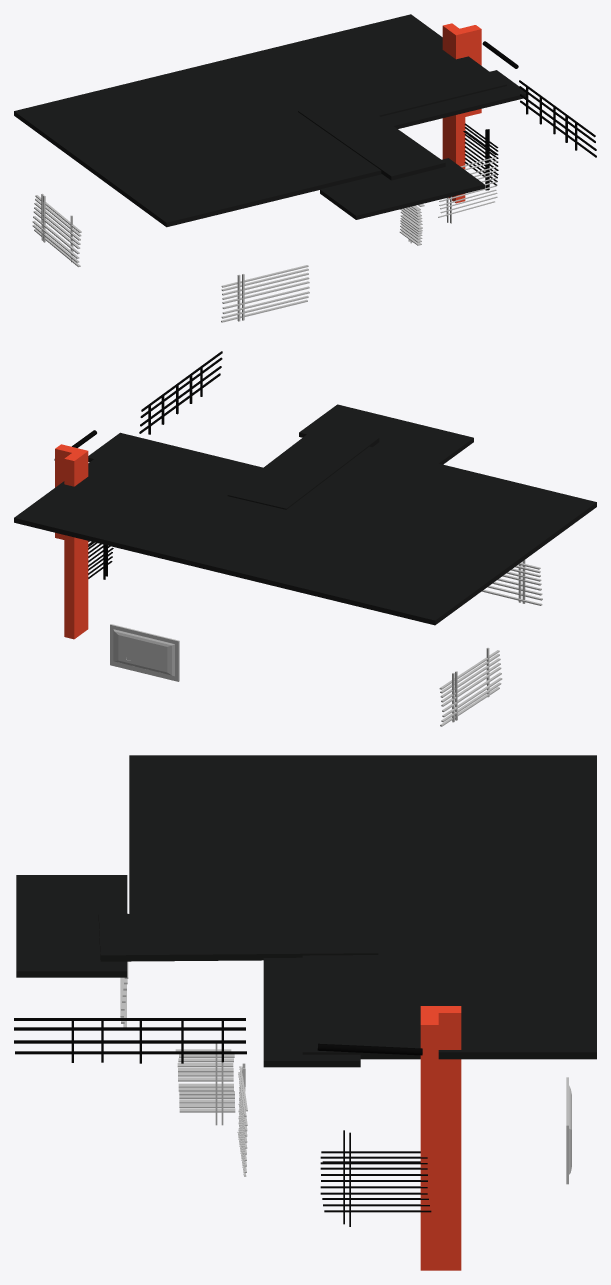
File: roofFrame.obj
The picture shows the model from 3 angles, top to bottom: view 1: azimuth 30°, elevation 25°; view 2: azimuth 150°, elevation 25°; view 3: azimuth 270°, elevation 25°; orthographic projection. The views are drawn at different scales.
Visible parts, largest first — view 1: Cube.015_Cube.019, Cube.014_Cube.003, Cube.014_Cube.018, Cube.010_Cube.014, Cube.014_Cube.002; view 2: Cube.015_Cube.019, Cube.014_Cube.003, Cube.014_Cube.018, Cube.010_Cube.014, Cube.001, Cube.014_Cube.002; view 3: Cube.015_Cube.019, Cube.014_Cube.003, Cube.010_Cube.014, Cube.014_Cube.018, Cube.014_Cube.002, Cube.016_Cube.020, Cube.017_Cube.021, Cube.018_Cube.022, Cylinder, Cube.019_Cube.023.
Boxes of the visible parts, <box> form: Cube.015_Cube.019: <box>14,14,506,227</box>; Cube.014_Cube.003: <box>298,97,445,180</box>; Cube.014_Cube.018: <box>320,158,484,219</box>; Cube.010_Cube.014: <box>442,23,481,203</box>; Cube.014_Cube.002: <box>381,70,525,128</box>; Cube.015_Cube.019: <box>14,443,596,625</box>; Cube.014_Cube.003: <box>227,424,379,509</box>; Cube.014_Cube.018: <box>299,404,473,464</box>; Cube.010_Cube.014: <box>55,444,88,639</box>; Cube.001: <box>110,624,179,681</box>; Cube.014_Cube.002: <box>88,432,262,476</box>; Cube.015_Cube.019: <box>129,755,596,1059</box>; Cube.014_Cube.003: <box>98,912,378,961</box>; Cube.010_Cube.014: <box>420,1006,461,1270</box>; Cube.014_Cube.018: <box>16,875,127,977</box>; Cube.014_Cube.002: <box>263,957,360,1067</box>; Cube.016_Cube.020: <box>15,1051,246,1054</box>; Cube.017_Cube.021: <box>14,1040,245,1043</box>; Cube.018_Cube.022: <box>14,1027,245,1030</box>; Cylinder: <box>317,1043,422,1055</box>; Cube.019_Cube.023: <box>14,1018,245,1020</box>.
Bounding box in the file's own units: 23.56 × 9.1 × 18.65.
